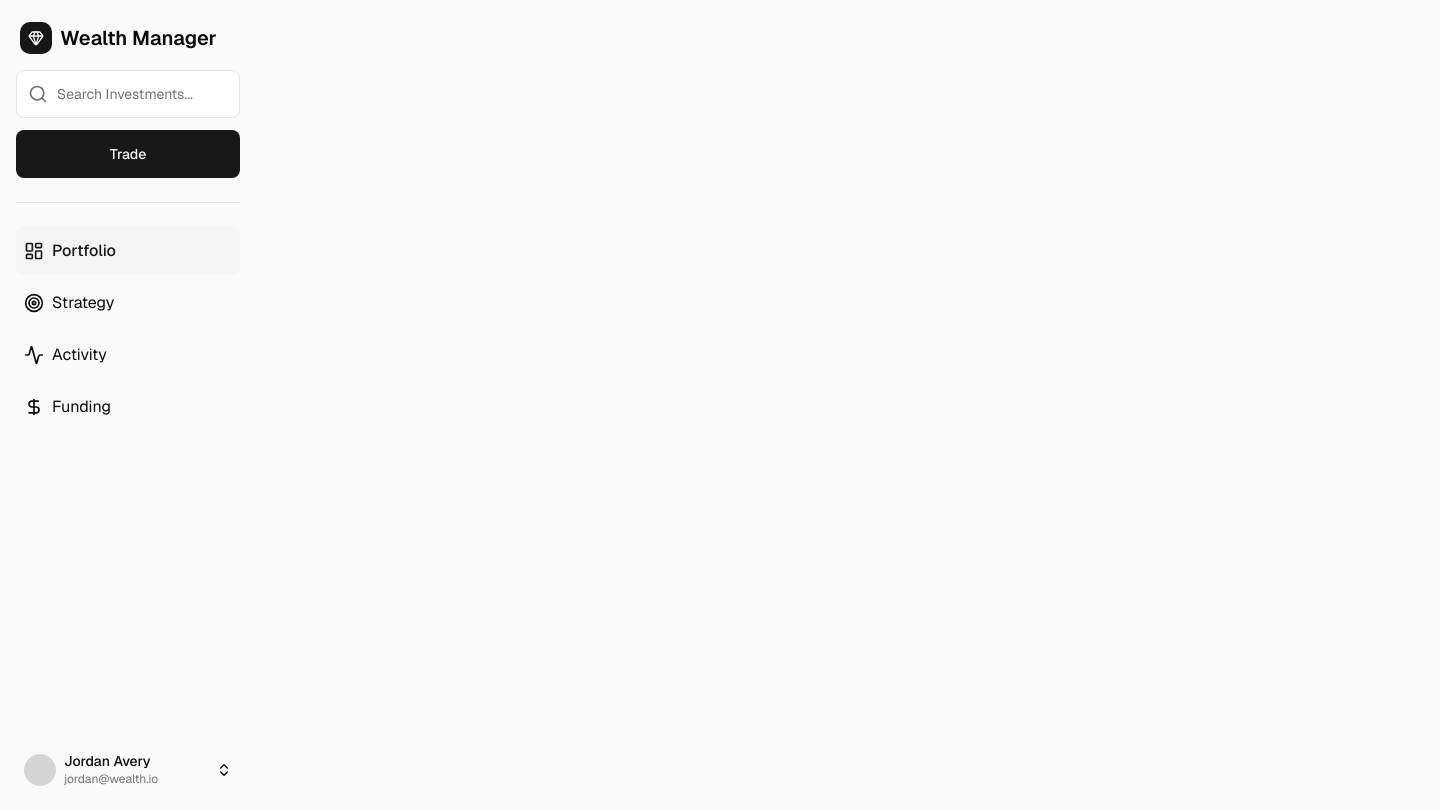
Test: shows the missing unavailable state without an Order form
Click the button "Trade" at [128, 154], box [16, 130, 240, 178]
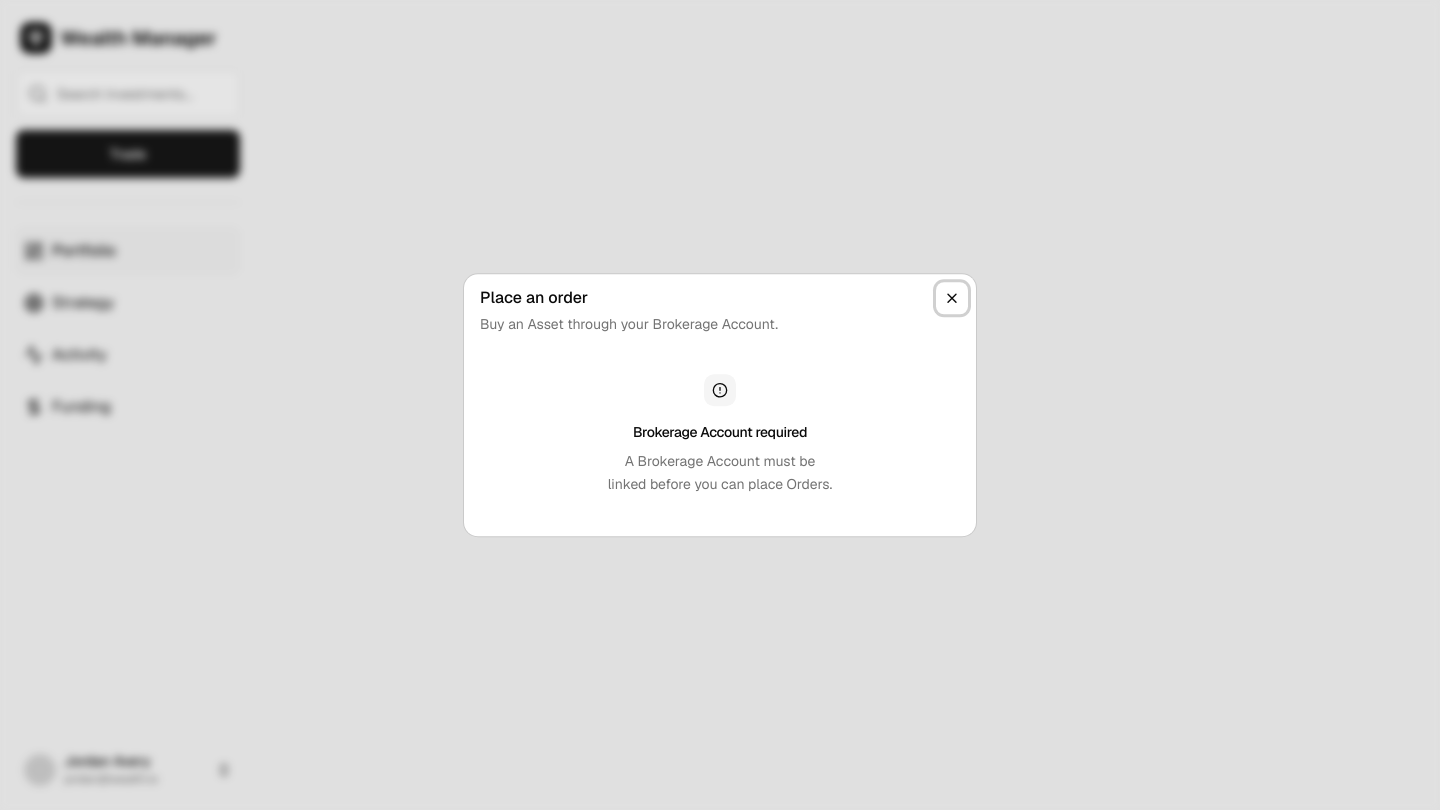
Expected: the heading "Brokerage Account required" is shown, [633, 422, 807, 442]
